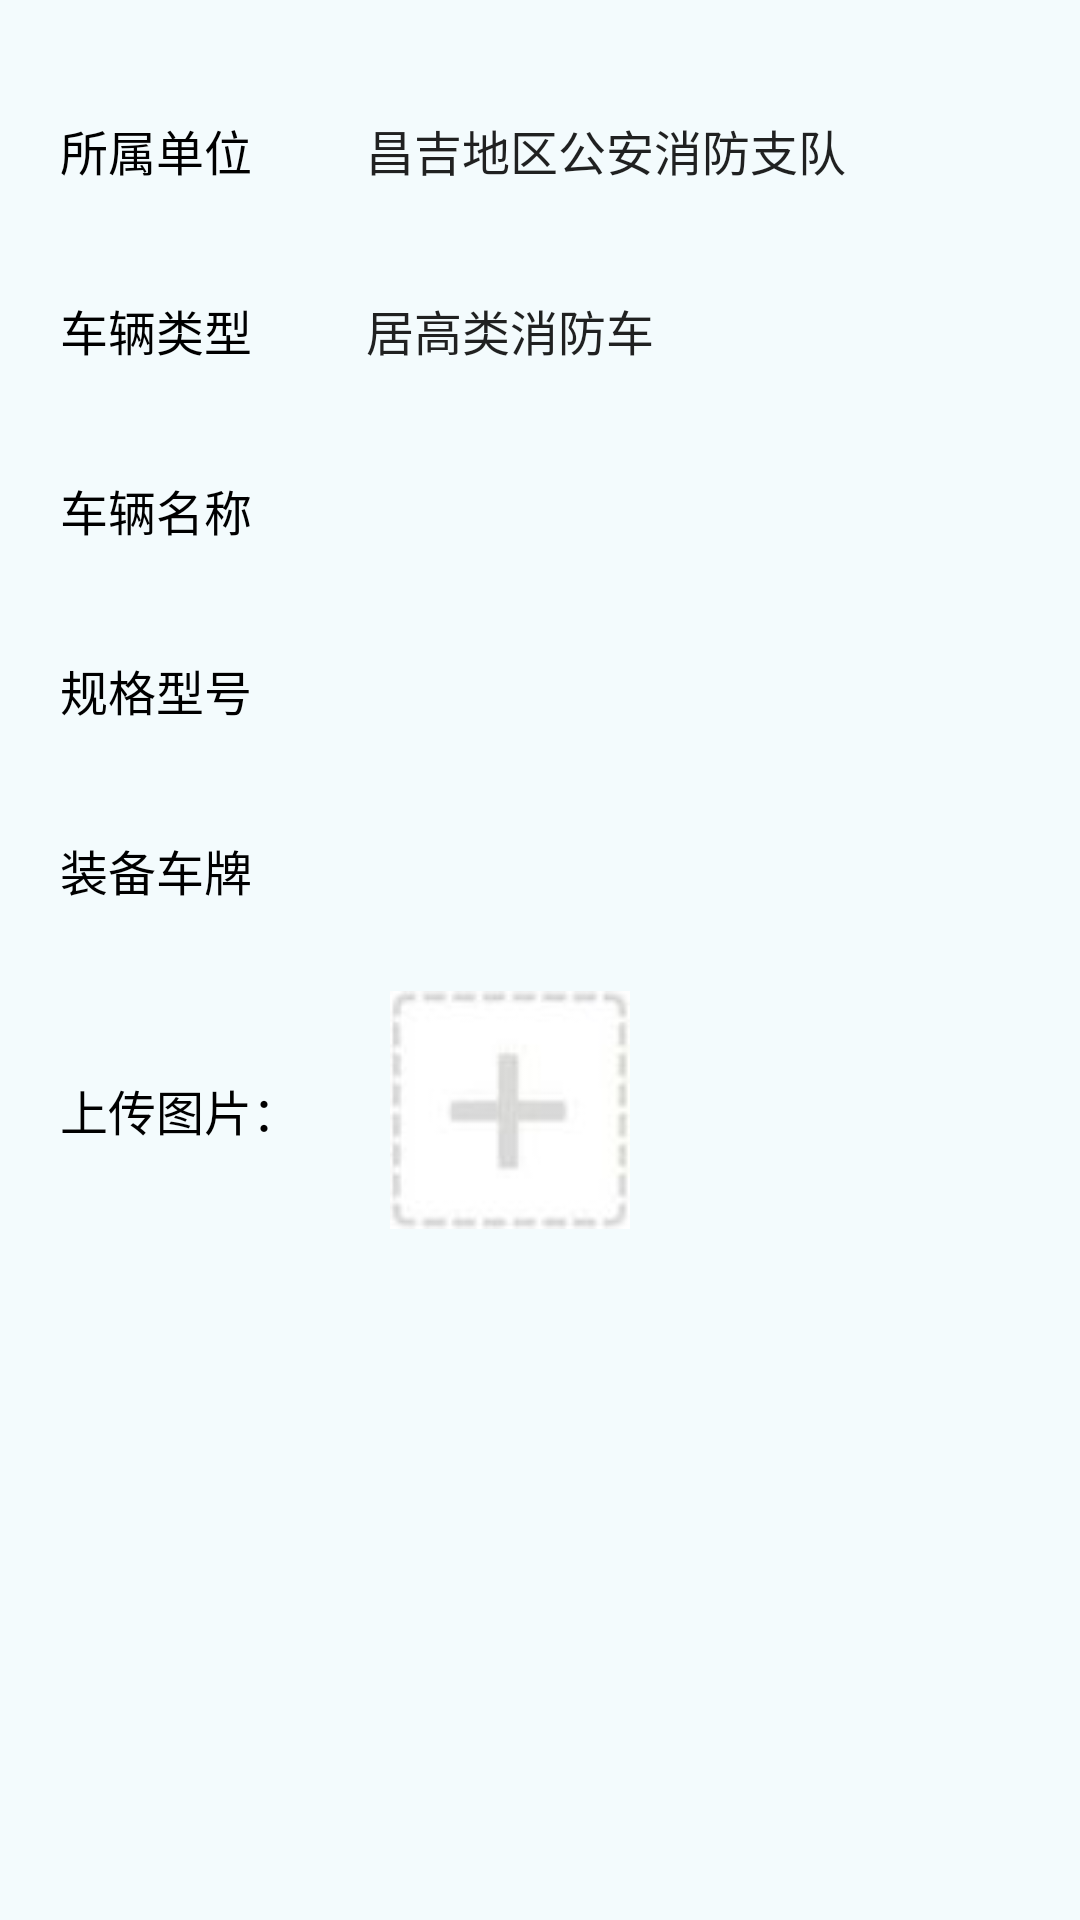

Where to tap for icons on this 1080px x 1920px app screen, as [x,y]:
add picture: [510,1110]
